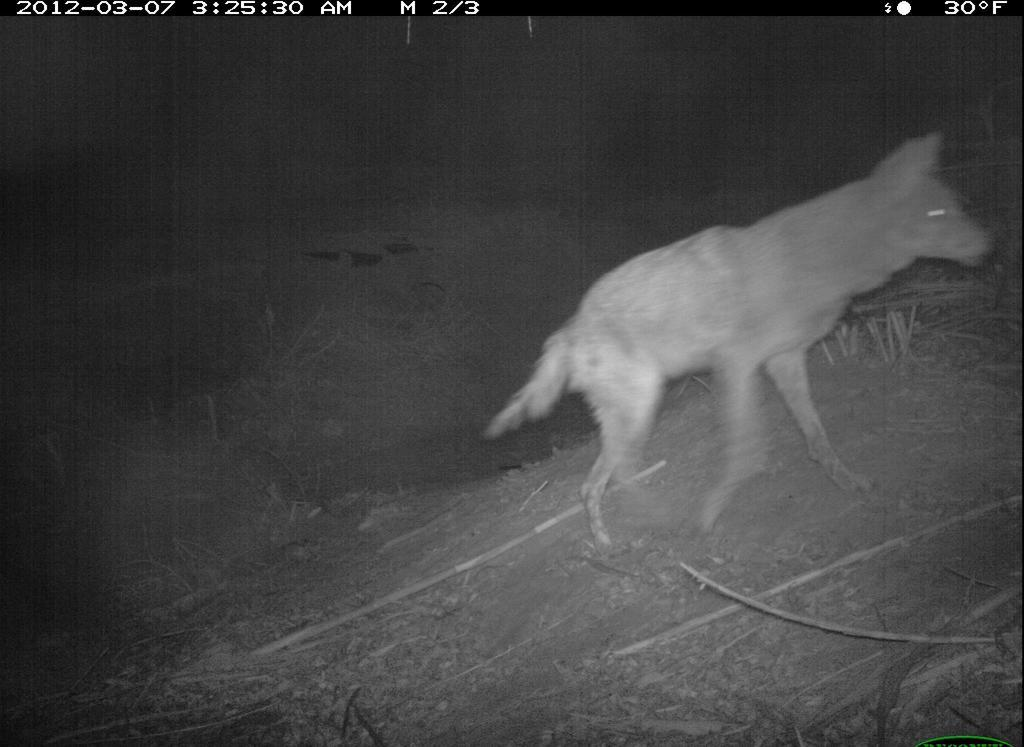coyote: (473, 121, 1003, 564)
